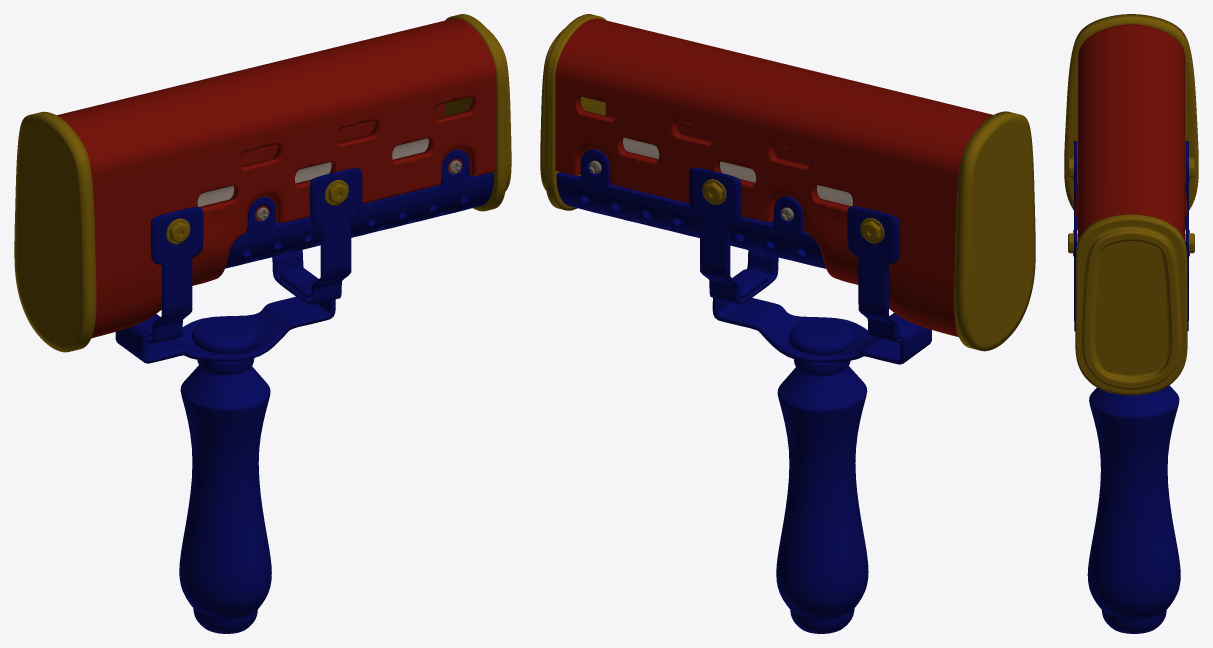
The model's file is handguard_05.fbx.
The picture shows the model from 3 angles, left to right: view 1: azimuth 30°, elevation 25°; view 2: azimuth 150°, elevation 25°; view 3: azimuth 270°, elevation 25°; orthographic projection. The views are drawn at different scales.
Parts seen in each view (by area): view 1: Cube.092; view 2: Cube.092; view 3: Cube.092.
Part boxes in pixels (left/top/right/bottom): Cube.092: left=14, top=14, right=511, bottom=633; Cube.092: left=540, top=14, right=1035, bottom=633; Cube.092: left=1064, top=14, right=1198, bottom=633.
Bounding box in the file's own units: 72.32 × 86.71 × 20.
